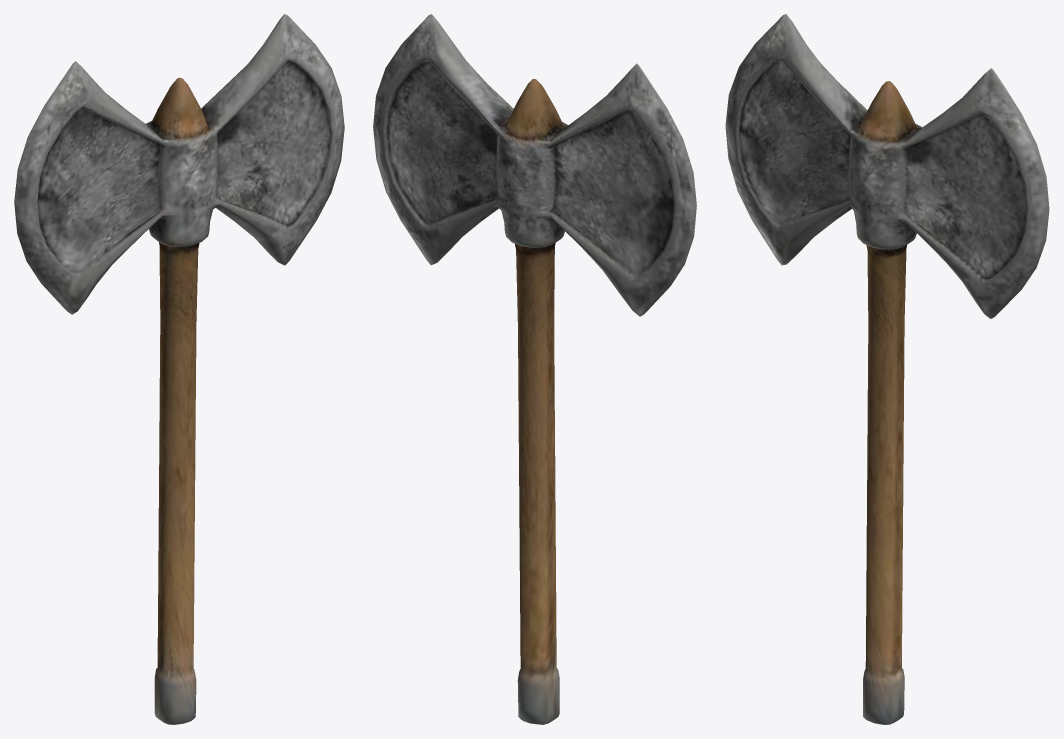
File: Greataxe_SR.glb
The picture shows the model from 3 angles, left to right: view 1: azimuth 30°, elevation 25°; view 2: azimuth 150°, elevation 25°; view 3: azimuth 330°, elevation 25°; orthographic projection.
Visible parts, largest first — view 1: Great Axe.002; view 2: Great Axe.002; view 3: Great Axe.002.
Part boxes in pixels (<box>): Great Axe.002: <box>14,14,344,724</box>; Great Axe.002: <box>373,14,696,724</box>; Great Axe.002: <box>725,14,1049,724</box>.
Size of the model in its own units: 0.9489 by 1.89 by 0.16.
1 material, 1 textured.
